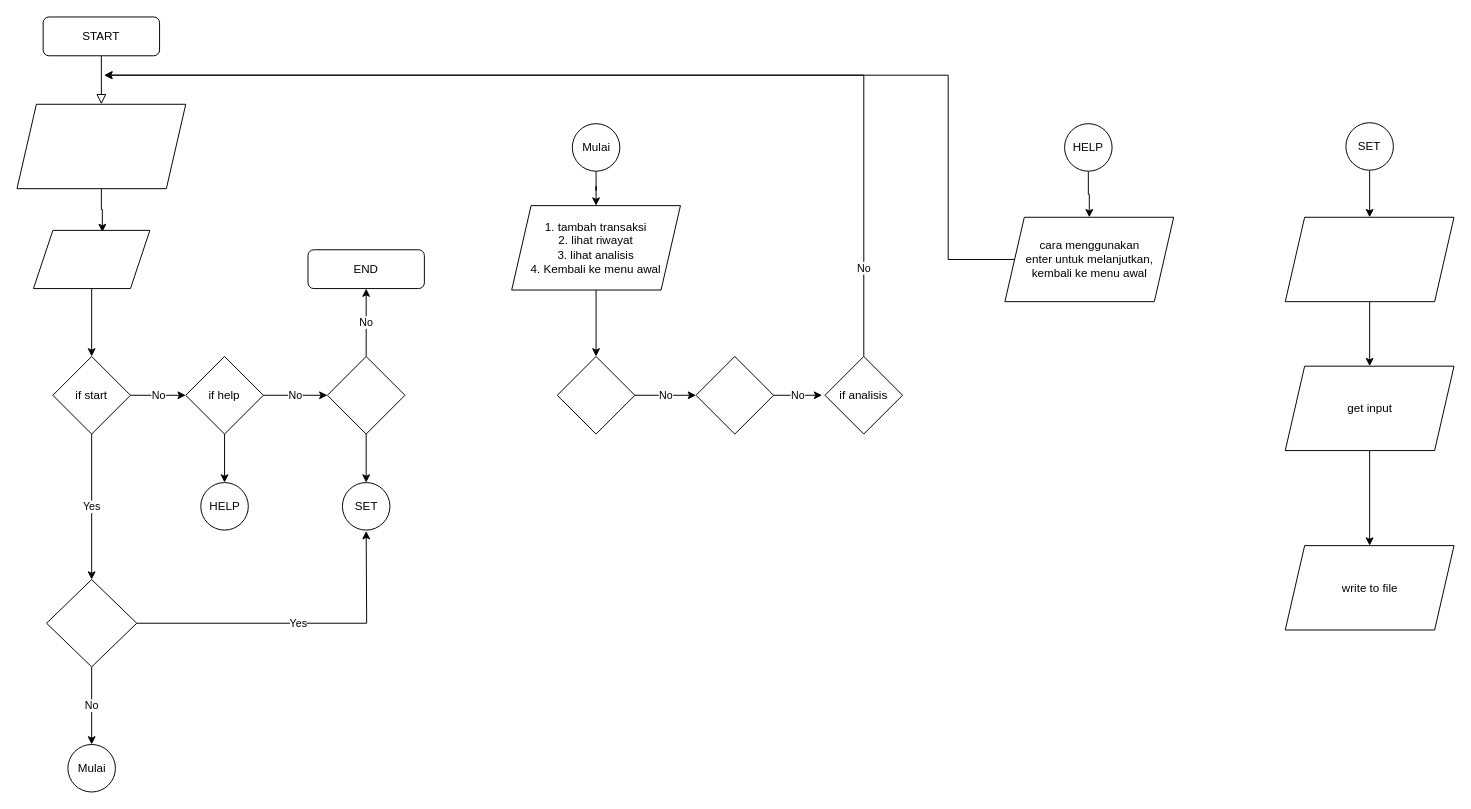
This 1471x809 diagram has some shape labels left out. The shapes that lost their labels are listed below. From the top down, each one's centre as x and y in pixels, then its label:
At (101,146): "MENU start help setting exit".
At (91,259): "input pilihan".
At (1369,259): "Set your target".
At (365,395): "if setting".
At (595,395): "if tambah".
At (734,395): "if riwayat".
At (91,623): "Pertama kali?".
